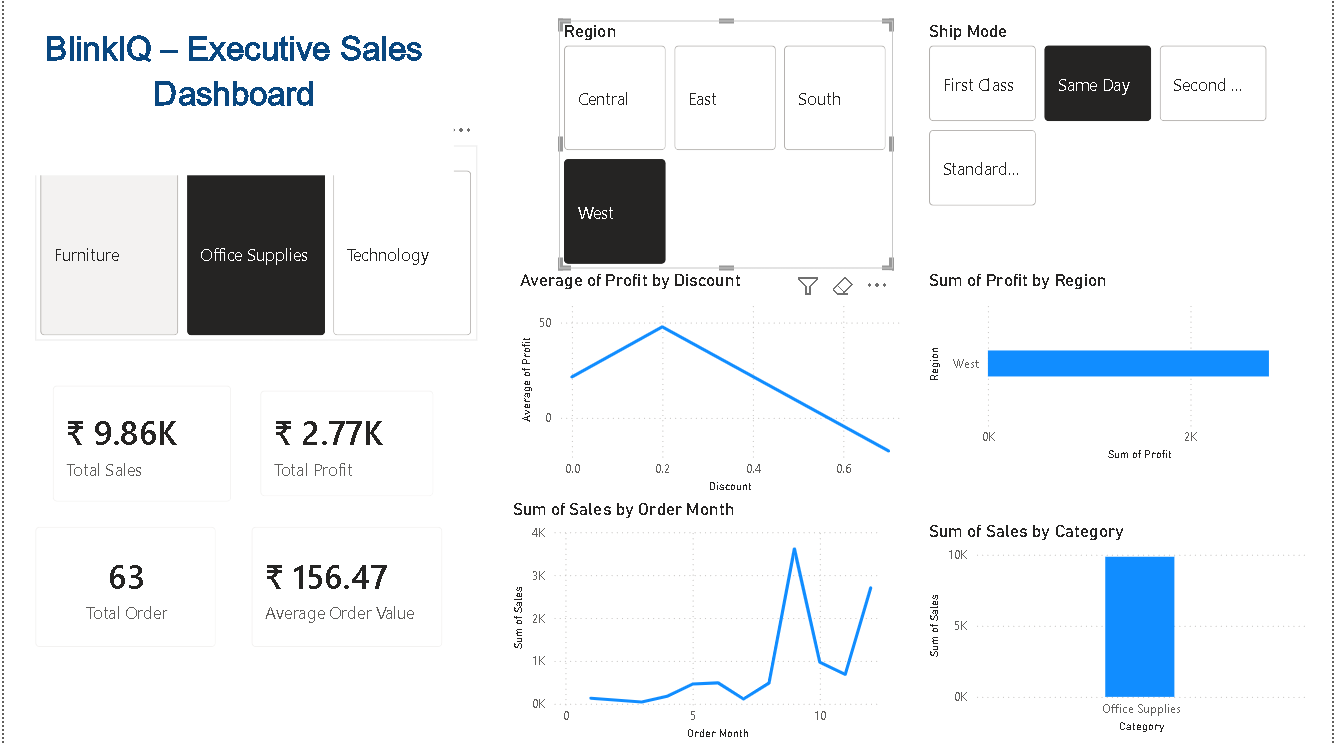

What the dashboard file says about the page in this screenshot:
{"tool":"powerbi","page":{"name":"Page 1","canvas":[1280,720],"ordinal":0},"visuals":[{"type":"cardVisual","fields":{"Data":["Sum(cleaneddata.Sales)"]},"box":[30,356.7,206.7,146.7],"z":0},{"type":"cardVisual","fields":{"Data":["Sum(cleaneddata.Profit)"]},"box":[230,361.7,201.7,136.7],"z":1000},{"type":"cardVisual","fields":{"Data":["Count(cleaneddata.Order ID)"]},"box":[13.3,493.3,208.3,150],"z":2000},{"type":"cardVisual","fields":{"Data":["cleaneddata.Average Order Value"]},"box":[221.7,493.3,218.3,150],"z":3000},{"type":"lineChart","fields":{"Y":["Sum(cleaneddata.Sales)"],"Category":["cleaneddata.Order Month"]},"box":[485,481.7,365,238.3],"z":4000},{"type":"barChart","fields":{"Category":["cleaneddata.Region"],"Y":["Sum(cleaneddata.Profit)"]},"box":[886.7,261.7,366.7,190],"z":5000},{"type":"columnChart","fields":{"Category":["cleaneddata.Category"],"Y":["Sum(cleaneddata.Sales)"]},"box":[886.7,503.3,373.3,210],"z":6000},{"type":"advancedSlicerVisual","fields":{"Values":["cleaneddata.Category"]},"box":[30,141.7,425,188.3],"z":7000},{"type":"advancedSlicerVisual","fields":{"Values":["cleaneddata.Region"]},"box":[535,21.7,321.7,240],"z":8000},{"type":"advancedSlicerVisual","fields":{"Values":["cleaneddata.Ship Mode"]},"box":[886.7,21.7,336.7,185],"z":9000},{"type":"lineChart","fields":{"Category":["cleaneddata.Discount"],"Y":["Avg(cleaneddata.Profit)"]},"box":[493.3,261.7,375,220],"z":10000},{"type":"textbox","box":[10,21,424,150],"z":11000}]}

Visuals, with their boxes in screenshot pixels (x1, y1, x2, y2), scaled from the page's 1280x720 canvas onto the 1336x745 screenshot:
cardVisual - Sum(cleaneddata.Sales): detection(31, 369, 247, 521)
cardVisual - Sum(cleaneddata.Profit): detection(240, 374, 451, 516)
cardVisual - Count(cleaneddata.Order ID): detection(14, 510, 231, 666)
cardVisual - cleaneddata.Average Order Value: detection(231, 510, 459, 666)
lineChart - Sum(cleaneddata.Sales) x cleaneddata.Order Month: detection(506, 498, 887, 744)
barChart - cleaneddata.Region x Sum(cleaneddata.Profit): detection(925, 271, 1308, 467)
columnChart - cleaneddata.Category x Sum(cleaneddata.Sales): detection(925, 521, 1315, 738)
advancedSlicerVisual - cleaneddata.Category: detection(31, 147, 475, 341)
advancedSlicerVisual - cleaneddata.Region: detection(558, 22, 894, 271)
advancedSlicerVisual - cleaneddata.Ship Mode: detection(925, 22, 1277, 214)
lineChart - cleaneddata.Discount x Avg(cleaneddata.Profit): detection(515, 271, 906, 498)
textbox: detection(10, 22, 453, 177)
